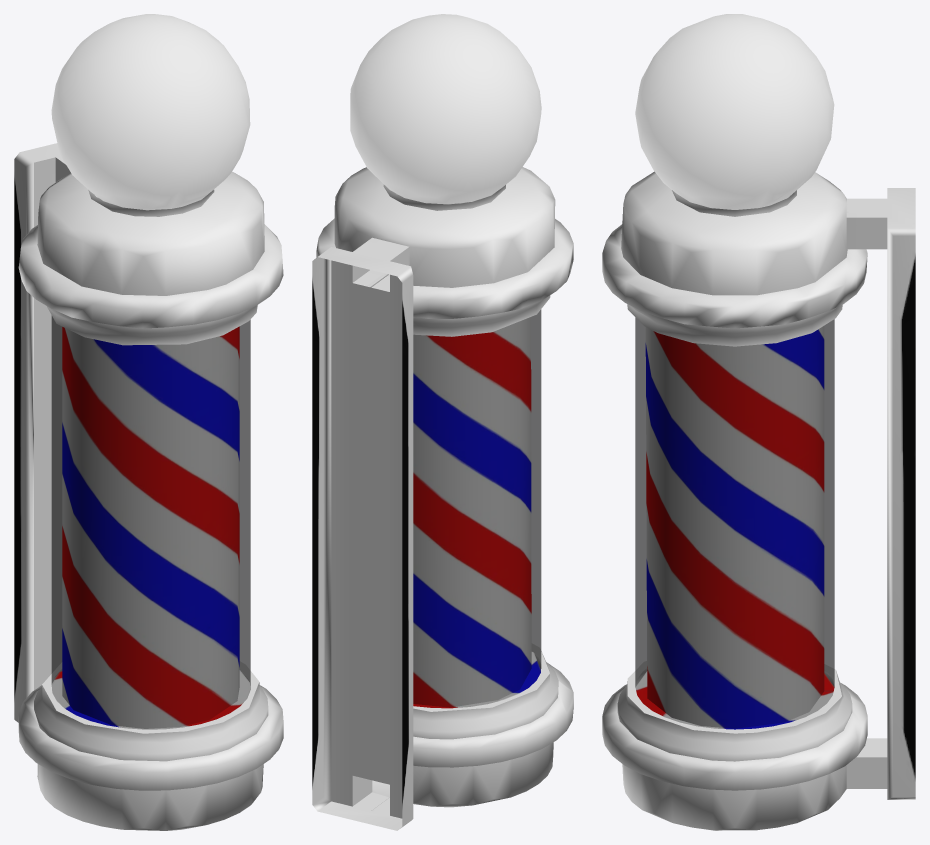
Rendered from barberpole.glb.
3 views of the same model, side by side, from view 1: azimuth 30°, elevation 25°; view 2: azimuth 150°, elevation 25°; view 3: azimuth 270°, elevation 25° (orthographic). The views are drawn at different scales.
Visible parts, largest first — view 1: Ouiter, Inner; view 2: Ouiter, Inner; view 3: Ouiter, Inner.
Part boxes in pixels (x1=…): Ouiter: x1=14, y1=14, x2=283, y2=830; Inner: x1=51, y1=326, x2=250, y2=729; Ouiter: x1=312, y1=14, x2=573, y2=830; Inner: x1=413, y1=317, x2=540, y2=708; Ouiter: x1=602, y1=14, x2=915, y2=830; Inner: x1=635, y1=326, x2=834, y2=729.
Size of the model in its own units: 0.2318 by 0.7492 by 0.2737.
Materials: 4 (4 with a texture image).
